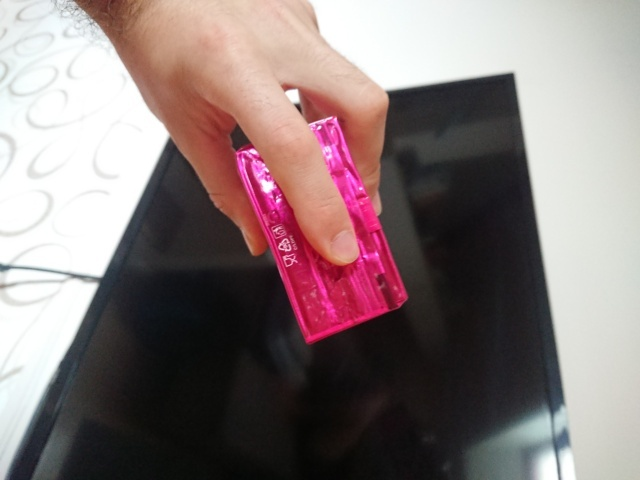Barcaffe Classic Original 225g: (231, 113, 411, 347)
